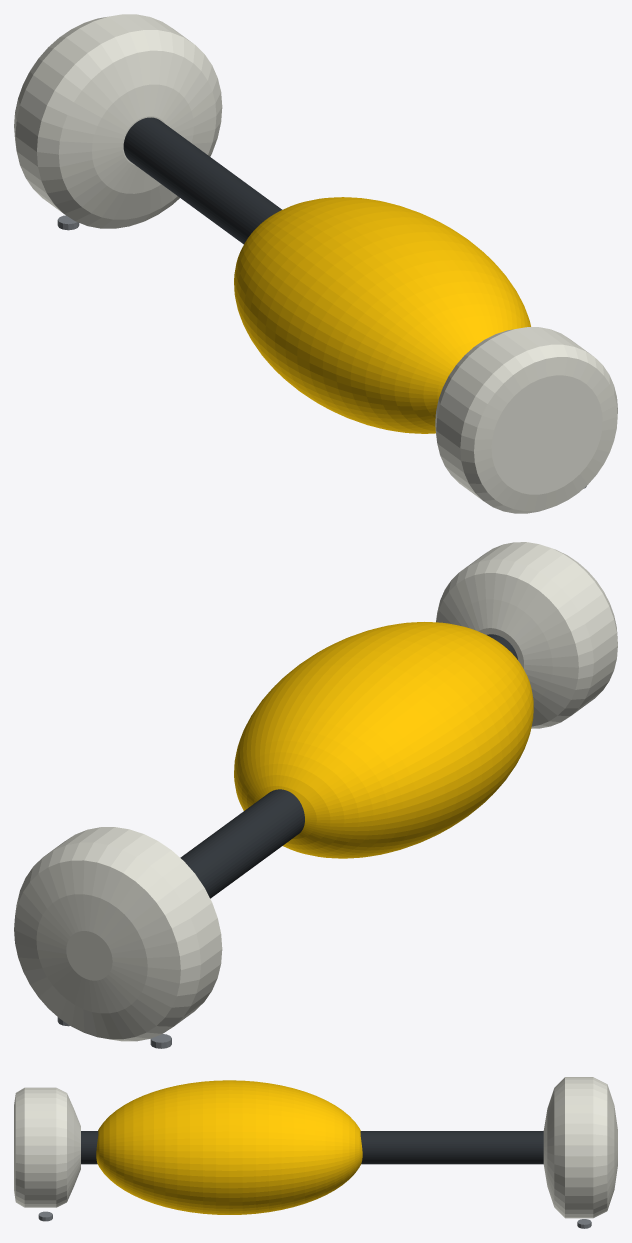
The model's file is yellow_sensor_model.obj.
3 views of the same model, one above another, from view 1: azimuth 30°, elevation 25°; view 2: azimuth 150°, elevation 25°; view 3: azimuth 270°, elevation 25° (orthographic). The views are drawn at different scales.
Parts seen in each view (by area): view 1: white, yellow, dark_gray; view 2: white, yellow, dark_gray; view 3: yellow, white, dark_gray, metal.
Part boxes in pixels (x1,y1,x2,y2): white: (14,14,617,513); yellow: (234,197,530,433); dark_gray: (123,117,282,244); white: (14,542,617,1041); yellow: (234,622,533,858); dark_gray: (180,634,517,898); yellow: (96,1080,362,1214); white: (14,1077,617,1218); dark_gray: (81,1131,543,1164); metal: (38,1211,591,1228).
Bounding box in the file's own units: 0.94 × 0.8 × 3.42.
